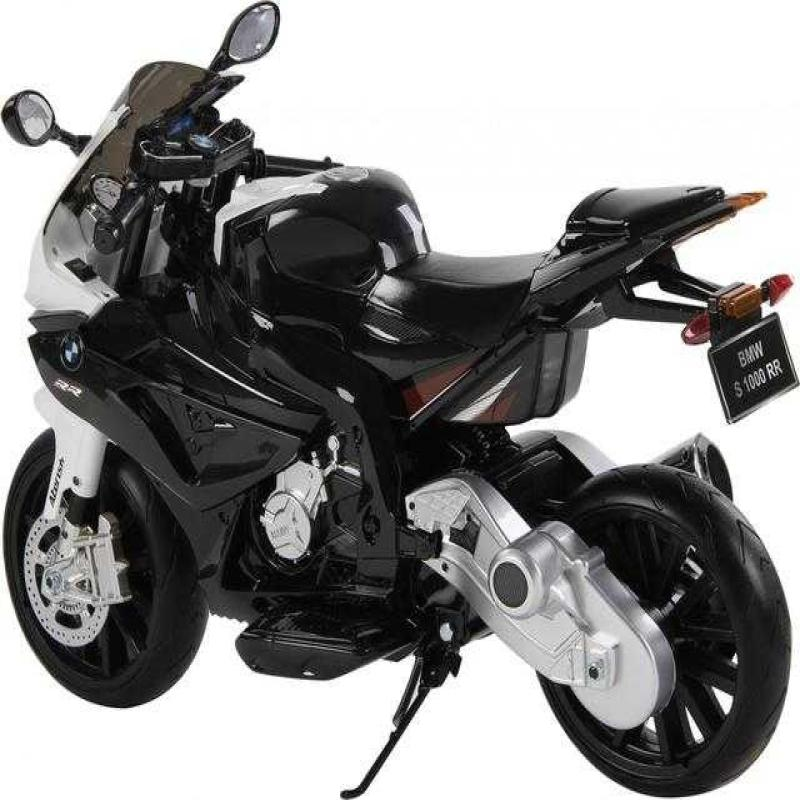bike: (0, 13, 781, 774)
